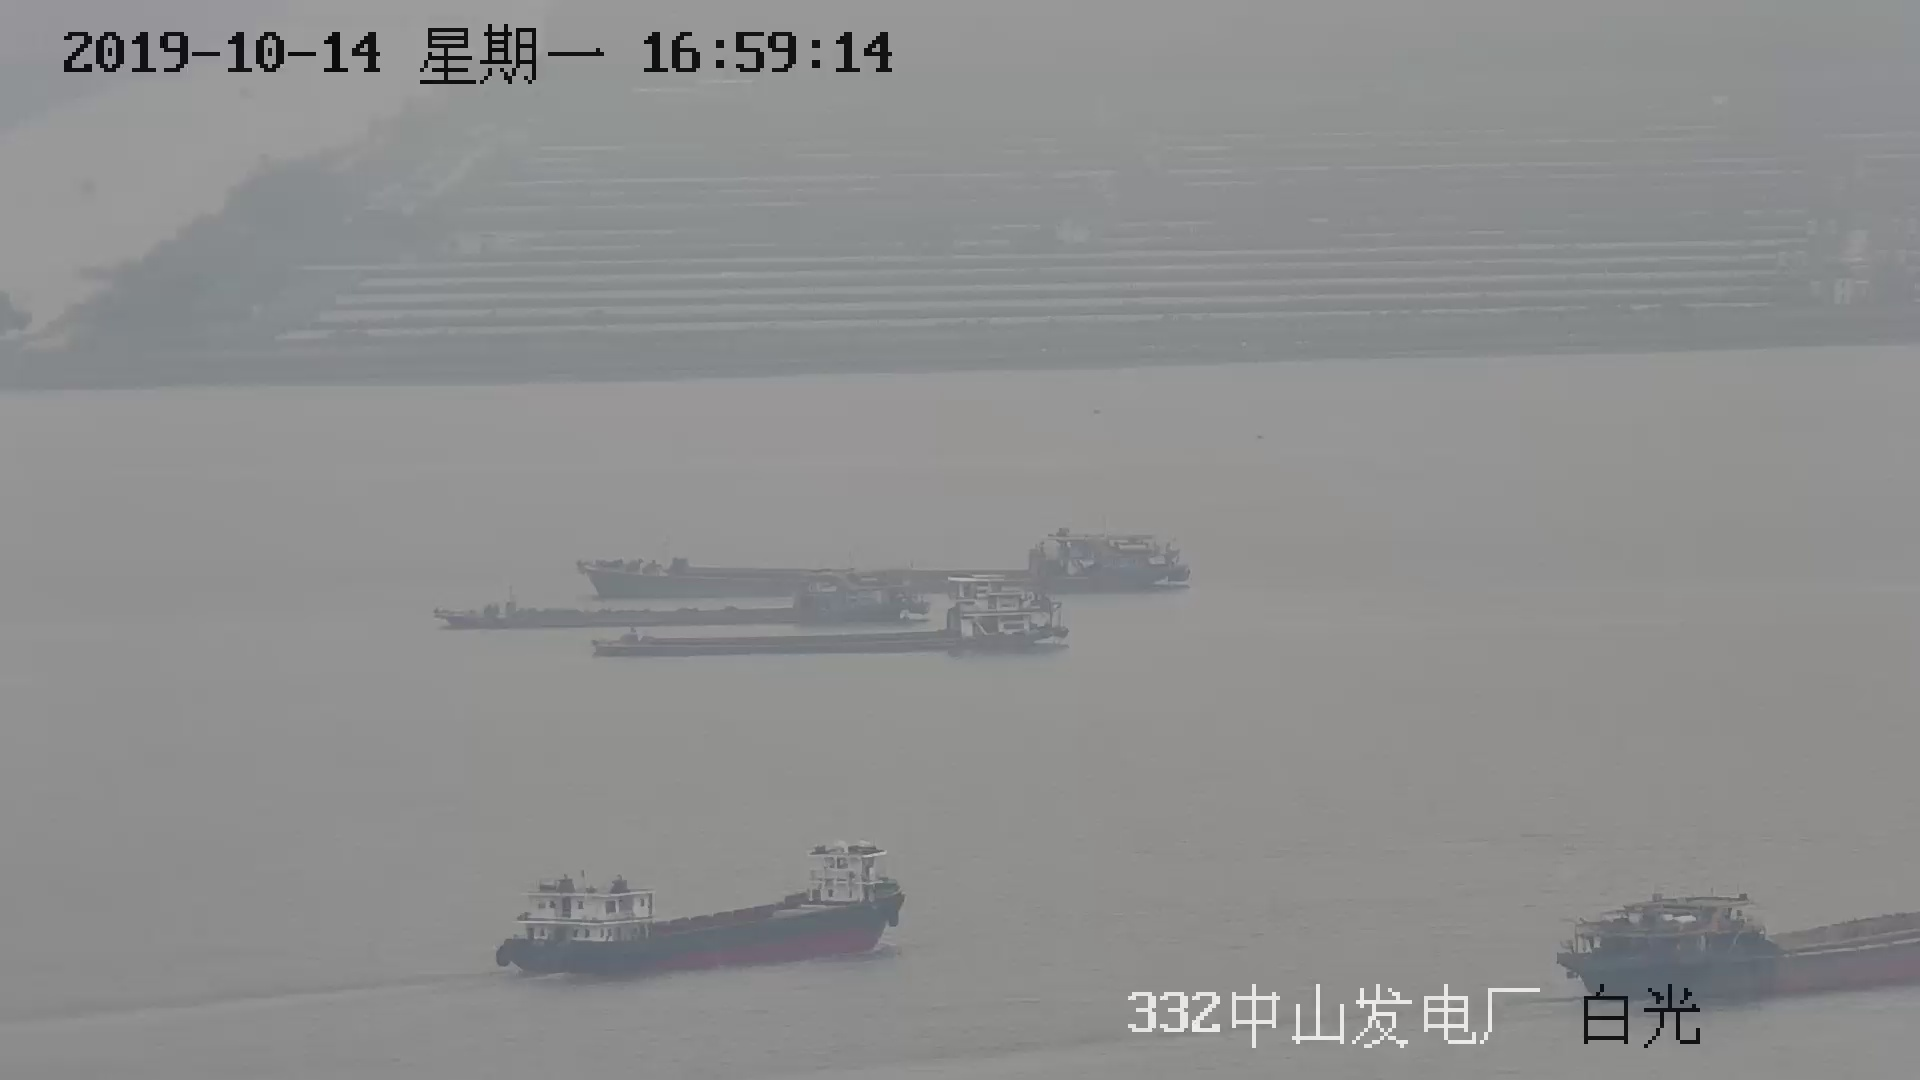ship: (493, 844, 897, 977), (566, 522, 1193, 593), (1549, 881, 1920, 996), (595, 597, 1064, 657), (430, 585, 928, 626)
